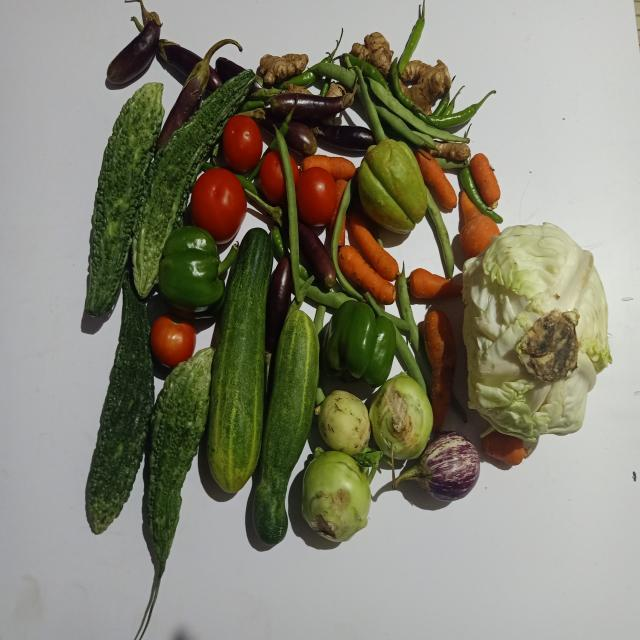Beans: (370, 78, 466, 141), (427, 186, 455, 278)
Bitter Gourd: (131, 69, 255, 297), (135, 348, 215, 639), (84, 81, 164, 316), (85, 274, 154, 534)
Brinjal: (106, 0, 162, 84)
Cabbage: (464, 222, 612, 441)
Capsicum: (321, 300, 396, 387)
Carrot: (338, 245, 396, 305)
Chayote: (358, 138, 428, 233)
Cucumber: (207, 227, 272, 493), (253, 301, 319, 545)
Eggplant: (395, 432, 481, 501)
Ginger: (400, 58, 452, 114), (350, 30, 394, 75), (258, 52, 309, 83)
Tomato: (190, 167, 247, 243), (296, 166, 336, 225), (150, 316, 196, 367), (223, 114, 262, 170)
Turnip: (302, 448, 371, 542), (369, 373, 434, 460), (318, 390, 371, 456)
